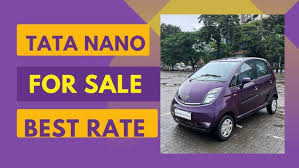Nano: (169, 56, 280, 143)
